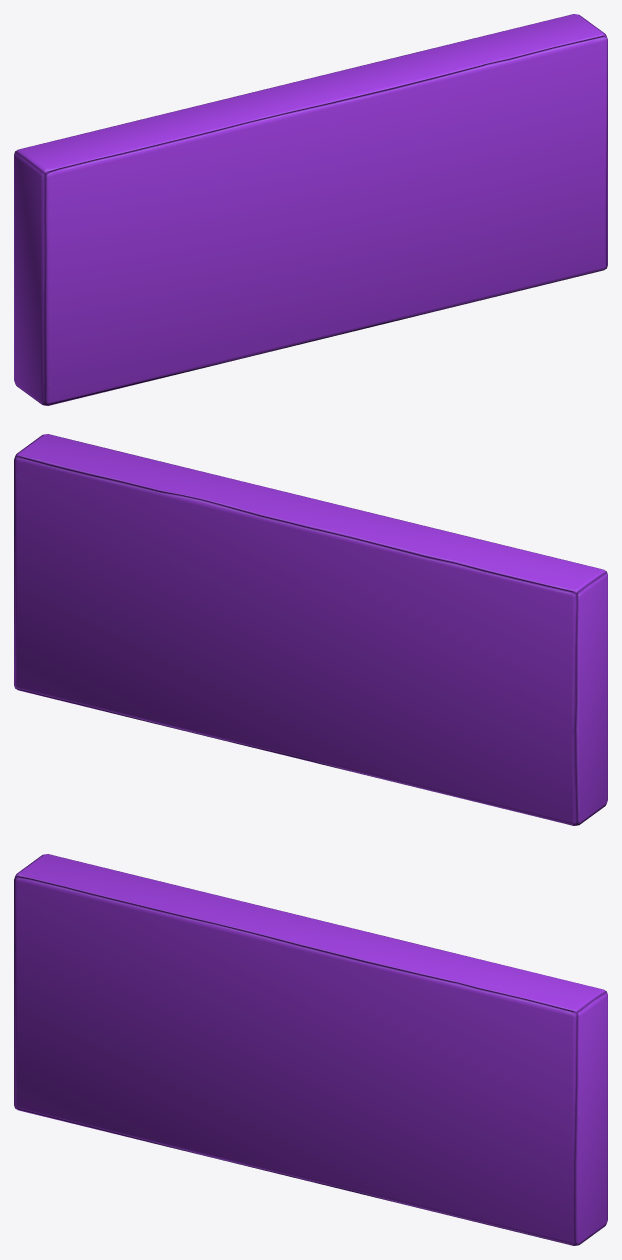
The model's file is Wall_low.fbx.
3 renders of one model, top to bottom at view 1: azimuth 30°, elevation 25°; view 2: azimuth 150°, elevation 25°; view 3: azimuth 330°, elevation 25°, orthographic.
Visible parts, largest first — view 1: Wall_low; view 2: Wall_low; view 3: Wall_low.
Part boxes in pixels (<box>): Wall_low: <box>14,14,607,405</box>; Wall_low: <box>14,434,607,825</box>; Wall_low: <box>14,854,607,1245</box>.
Size of the model in its own units: 1000 by 400 by 100.
